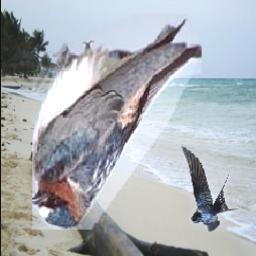Swallow: (32, 14, 202, 230), (180, 145, 240, 233)
